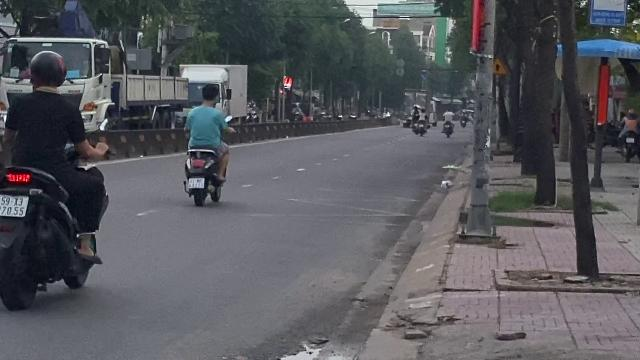helmet: (27, 49, 69, 91)
licenseplate: (0, 194, 28, 216), (188, 178, 204, 188)
motorcyclist: (1, 47, 111, 310), (180, 84, 232, 206)
nohelmet: (198, 84, 218, 106)
